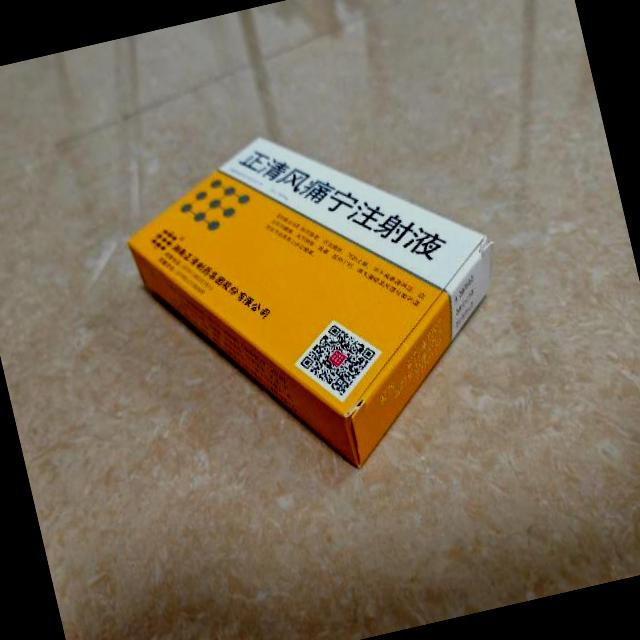box: (111, 91, 534, 506)
